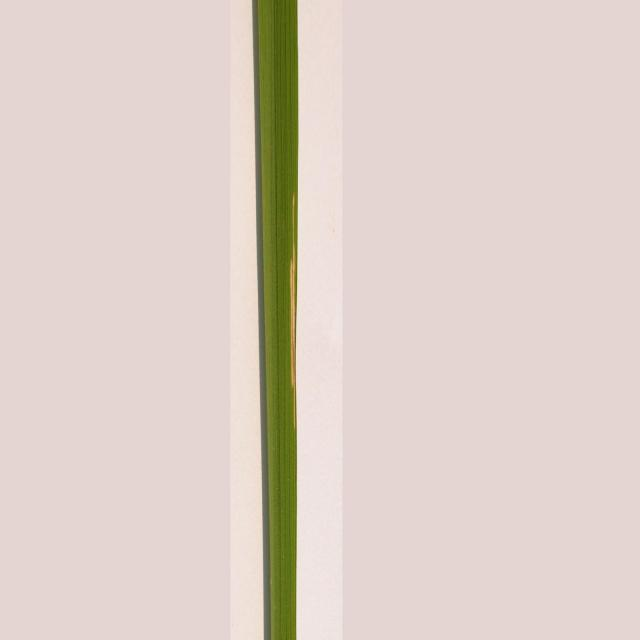leaf blight: (281, 197, 307, 428)
